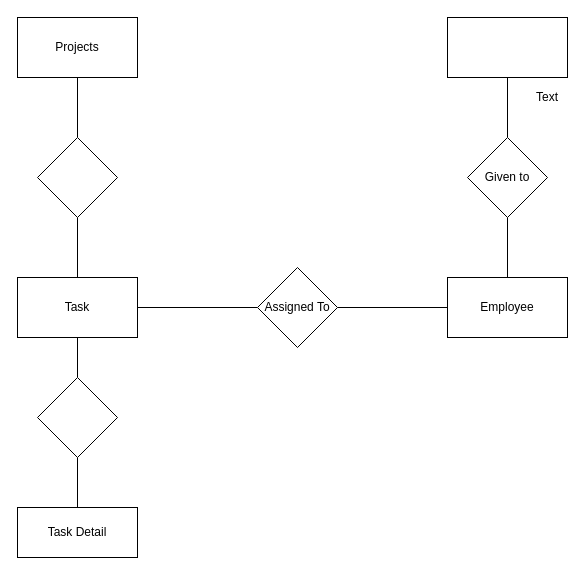
The diagram is 585 pixels wide and 575 high, and some of its shapes have lost their labels. Each missing label, with the box of its shape:
Company Positions: (446, 16, 568, 78)
Comprises: (36, 136, 118, 218)
Has Further Info: (36, 376, 118, 458)
